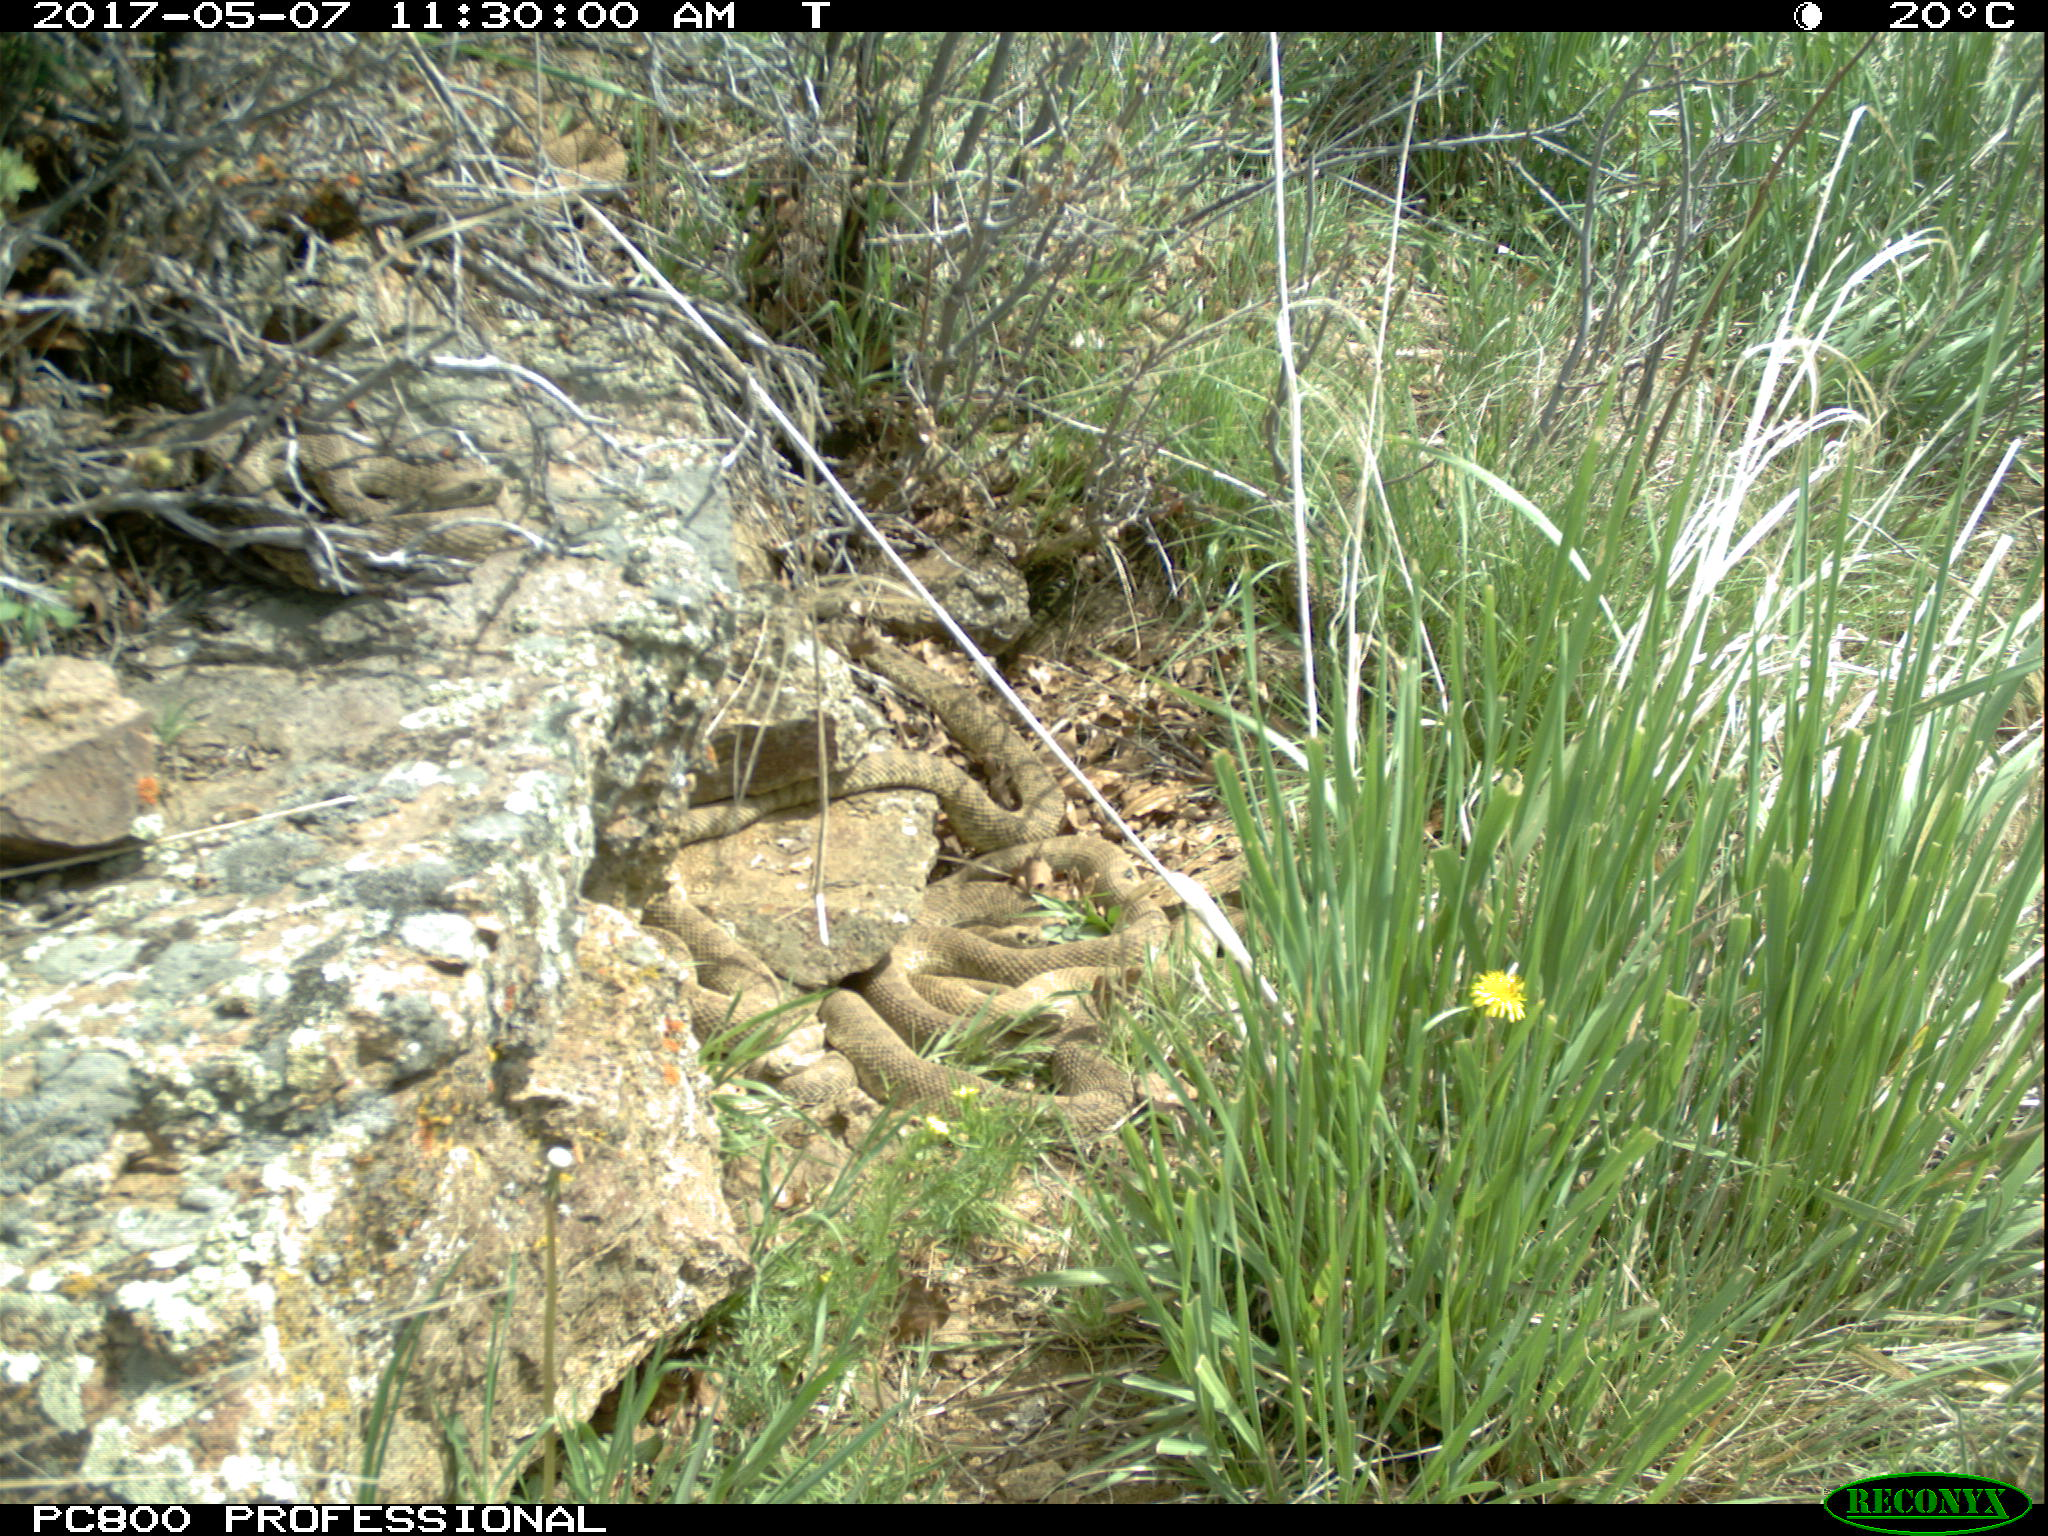snake: (776, 978, 1147, 1150), (182, 424, 524, 581), (877, 833, 1188, 975), (860, 602, 1050, 791), (780, 745, 1097, 849), (655, 802, 785, 1041)
